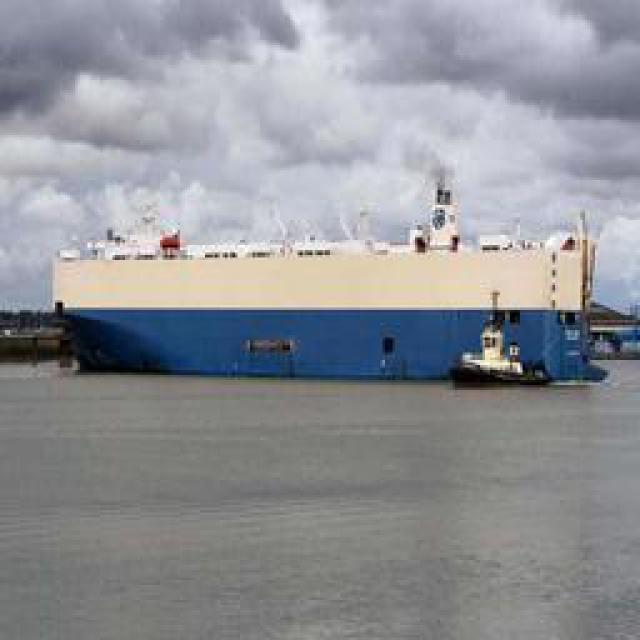Ship: (38, 224, 613, 389)
